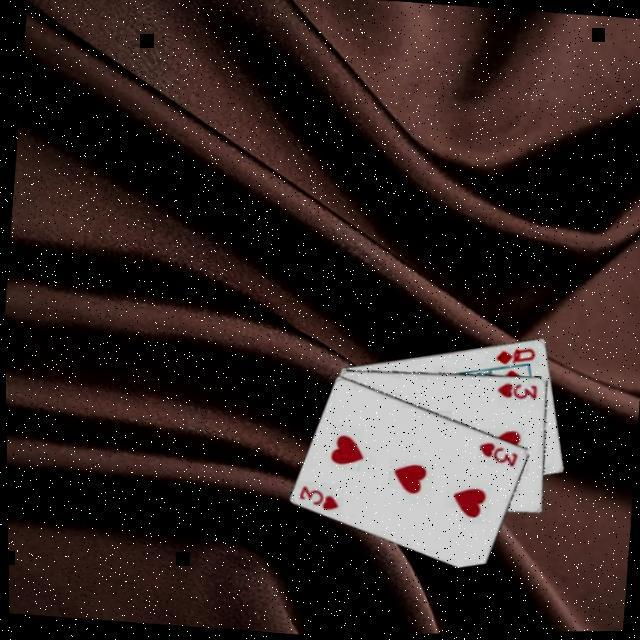3H: (476, 437, 522, 470), (296, 480, 342, 513), (494, 377, 540, 402)
QD: (492, 342, 538, 369)
